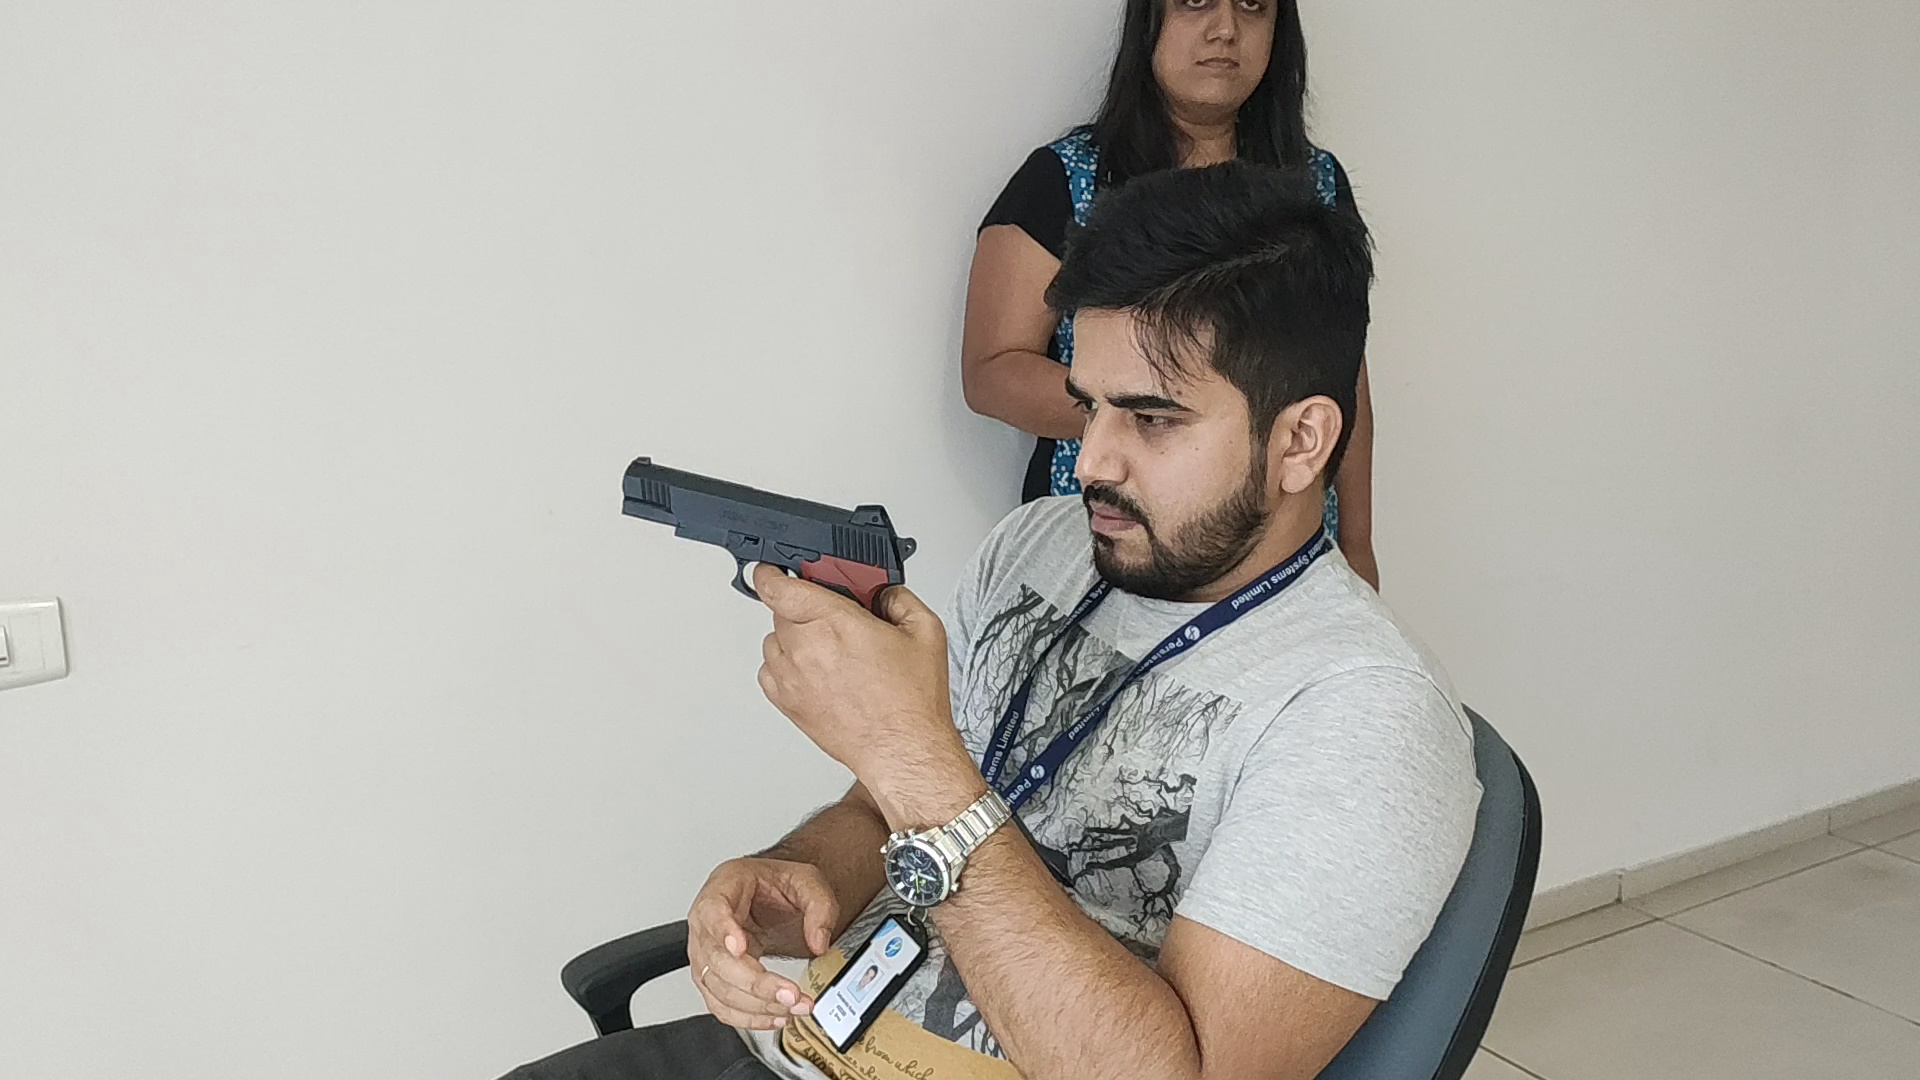gun: (615, 454, 915, 593)
